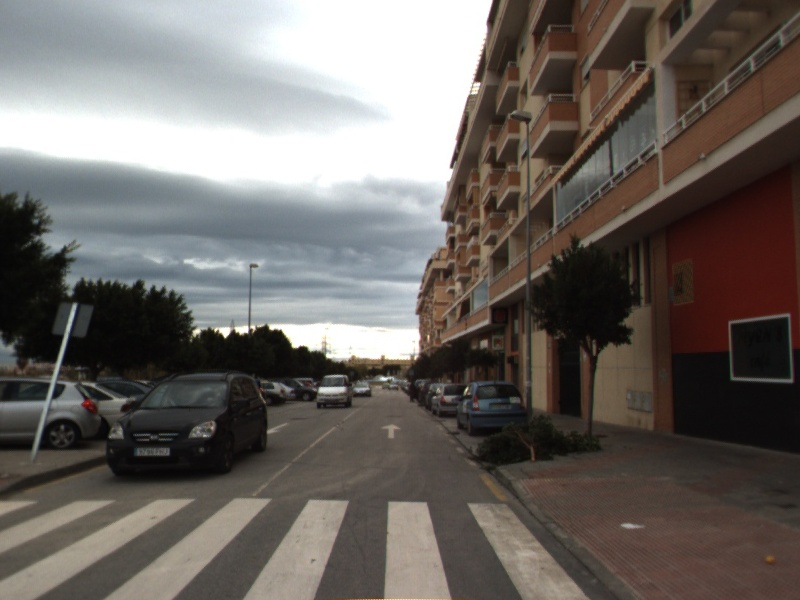STRAIGHT: (379, 422, 403, 440)
